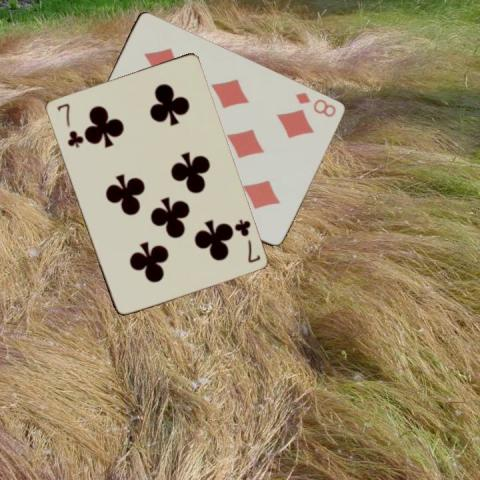7c: (53, 100, 83, 149), (231, 216, 261, 264)
8d: (291, 89, 338, 119)
